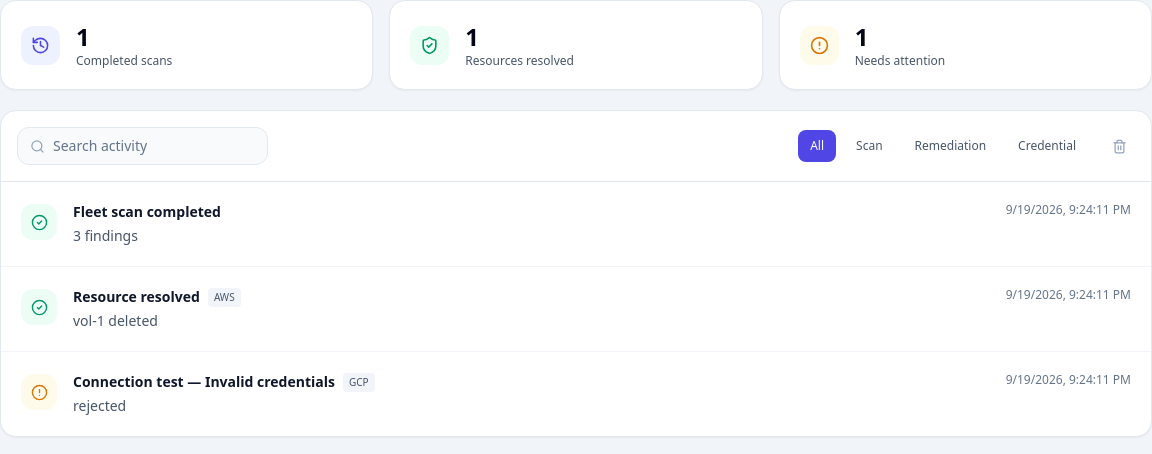
Scenario: ActivityLog › filters by search text across title/message/provider
This screenshot has width=1152, height=454.
Type "vol-1" into the field with placeholder "Search activity" at (154, 146), box [53,136,255,156]
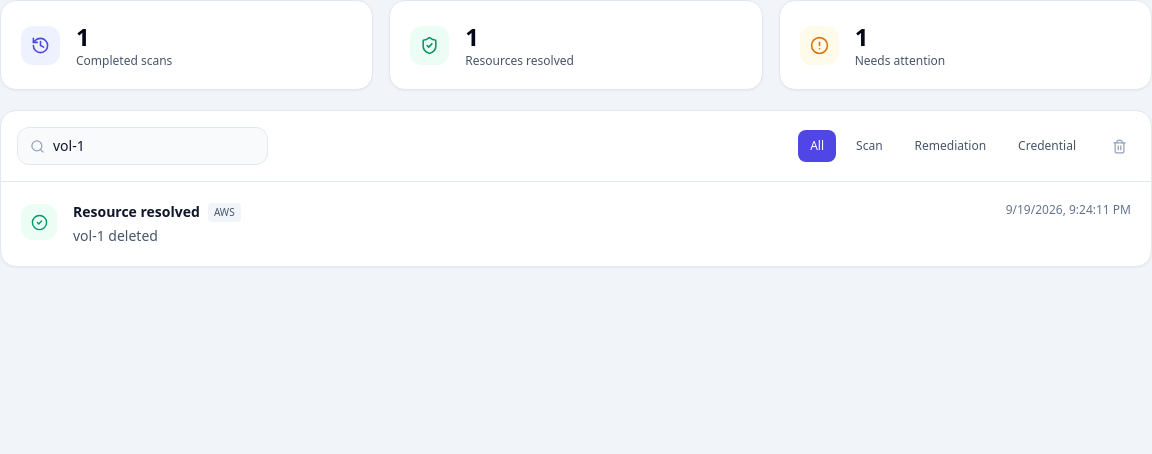
Expected: the heading "Resource resolved" is shown, [73,202,200,222]
Expected: the heading "Fleet scan completed" is gone
